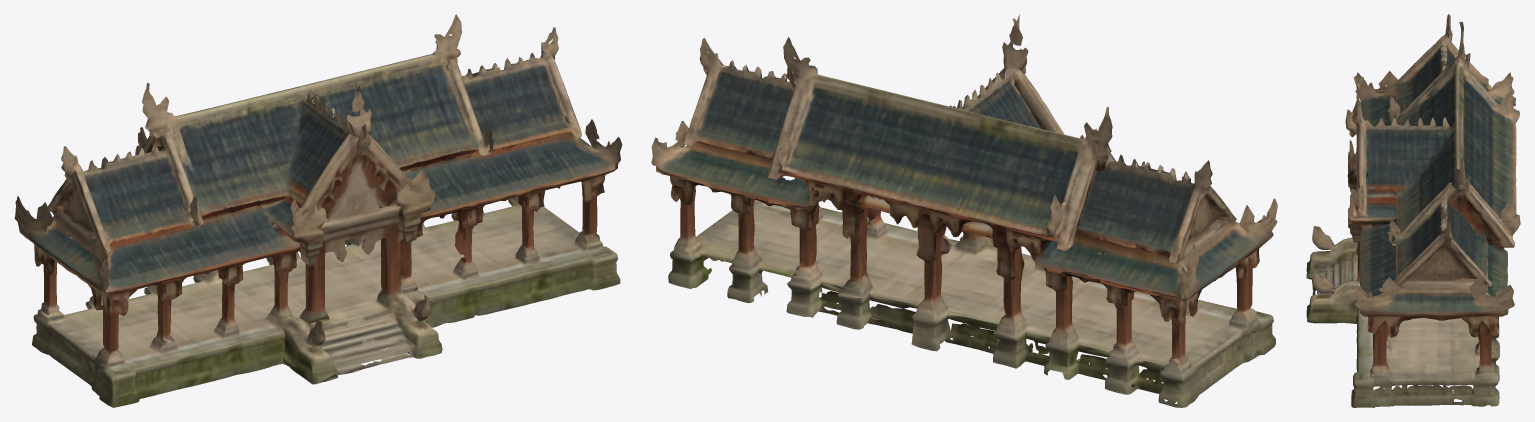
Rendered from market_hall.glb.
3 views of the same model, side by side, from view 1: azimuth 30°, elevation 25°; view 2: azimuth 150°, elevation 25°; view 3: azimuth 270°, elevation 25° (orthographic). The views are drawn at different scales.
Size of the model in its own units: 1 by 0.4874 by 0.4224.
Materials: 1 (1 with a texture image).
